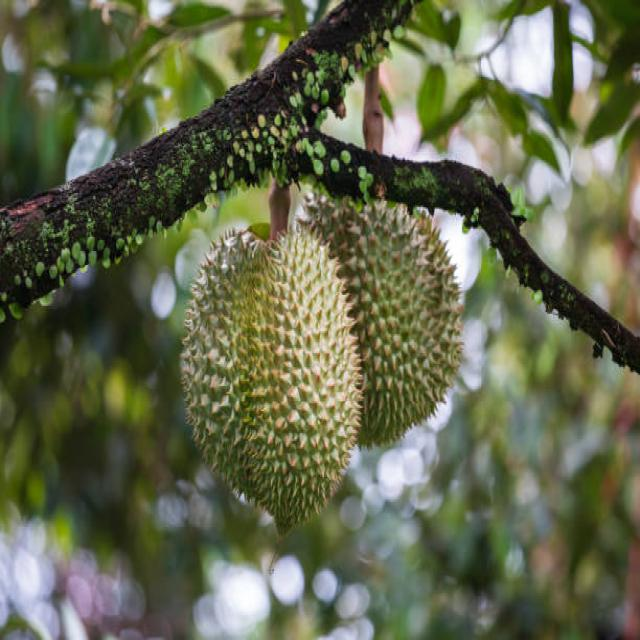mature: (181, 229, 360, 531), (305, 195, 461, 445)
